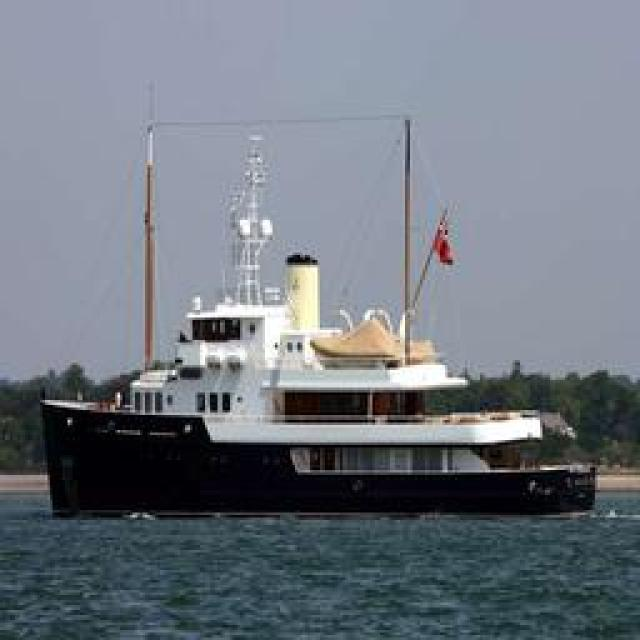CIV_Ship: (45, 82, 598, 516)
